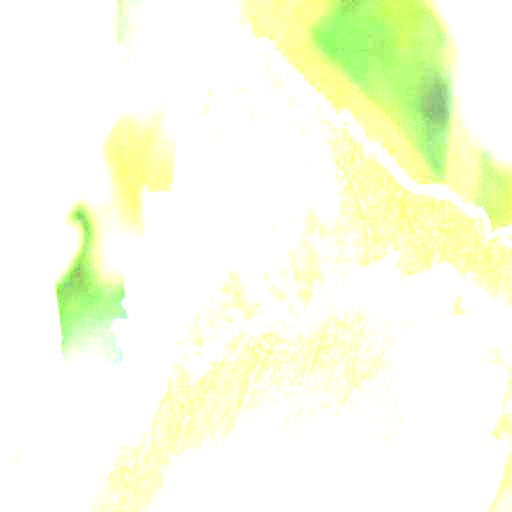Powdery Mildew Leaf: (103, 25, 511, 437)
